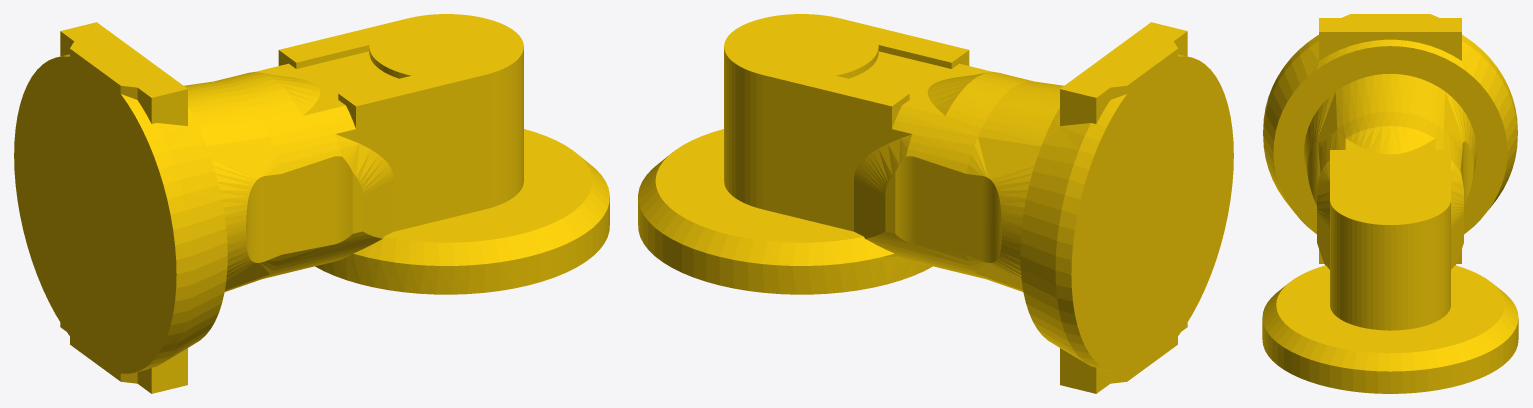
The picture shows the model from 3 angles, left to right: view 1: azimuth 30°, elevation 25°; view 2: azimuth 150°, elevation 25°; view 3: azimuth 270°, elevation 25°; orthographic projection. The views are drawn at different scales.
Visible parts, largest first — view 1: Node_0x7f98e9894f00; view 2: Node_0x7f98e9894f00; view 3: Node_0x7f98e9894f00.
Part boxes in pixels (x1,y1,x2,y2): Node_0x7f98e9894f00: [14, 14, 609, 393]; Node_0x7f98e9894f00: [638, 14, 1233, 393]; Node_0x7f98e9894f00: [1262, 14, 1518, 393].
Bounding box in the file's own units: 0.324 × 0.186 × 0.186.
